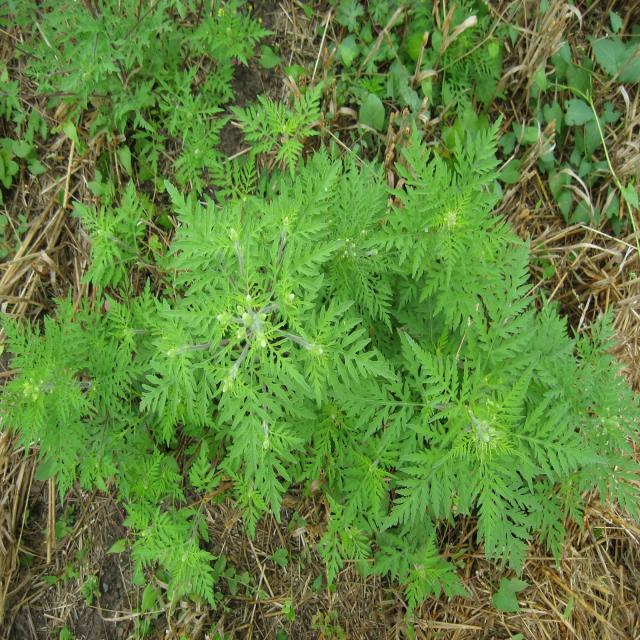ambrosia: (380, 318, 586, 572), (180, 192, 320, 488), (18, 287, 143, 461), (371, 153, 510, 297)
